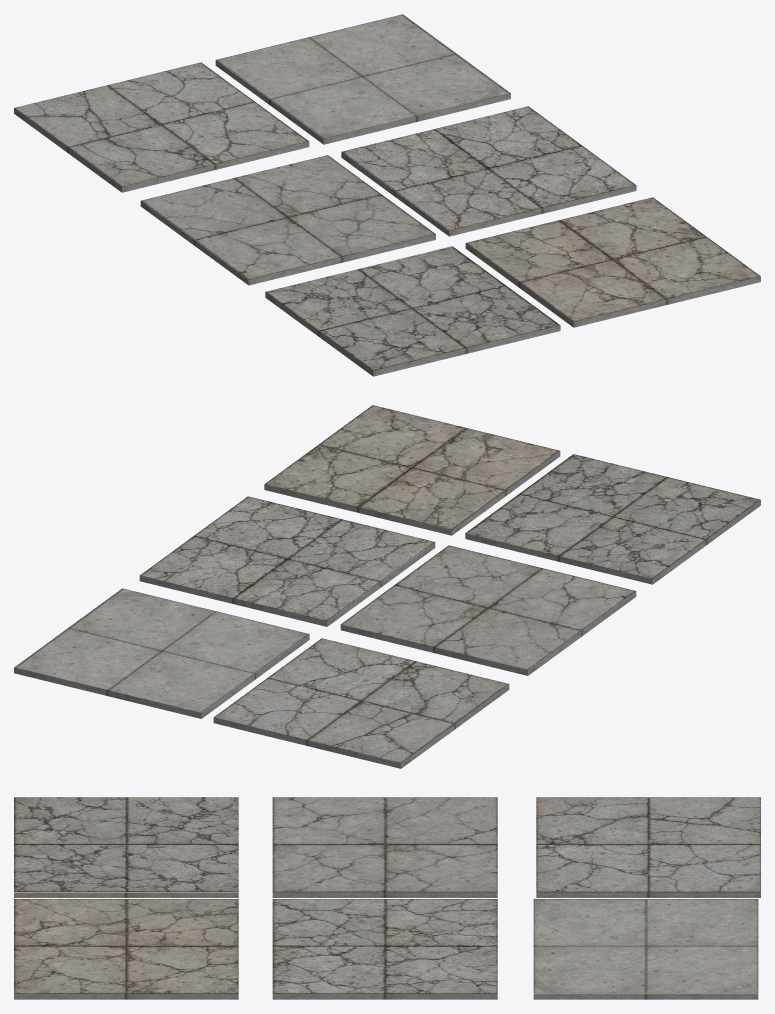
File: FloorTile.fbx
3 views of the same model, one above another, from view 1: azimuth 30°, elevation 25°; view 2: azimuth 150°, elevation 25°; view 3: azimuth 270°, elevation 25° (orthographic). The views are drawn at different scales.
Visible parts, largest first — view 1: Cell2, Cell1, Cell4, Cell5, Cell3, Cell6; view 2: Cell5, Cell2, Cell4, Cell3, Cell6, Cell1; view 3: Cell1, Cell2, Cell3, Cell4, Cell5, Cell6.
Boxes of the visible parts, <box> form: Cell2: <box>341,106,636,236</box>; Cell1: <box>215,14,510,144</box>; Cell4: <box>14,62,309,192</box>; Cell5: <box>465,197,760,327</box>; Cell3: <box>140,155,435,285</box>; Cell6: <box>265,246,560,376</box>; Cell5: <box>264,405,560,535</box>; Cell2: <box>139,496,435,626</box>; Cell4: <box>213,638,509,768</box>; Cell3: <box>340,545,636,675</box>; Cell6: <box>465,454,760,584</box>; Cell1: <box>14,588,309,718</box>; Cell1: <box>533,899,758,999</box>; Cell2: <box>272,899,497,999</box>; Cell3: <box>272,797,497,897</box>; Cell4: <box>536,797,760,897</box>; Cell5: <box>14,899,238,999</box>; Cell6: <box>14,797,238,897</box>.
Size of the model in its own units: 414 by 5.82 by 665.
